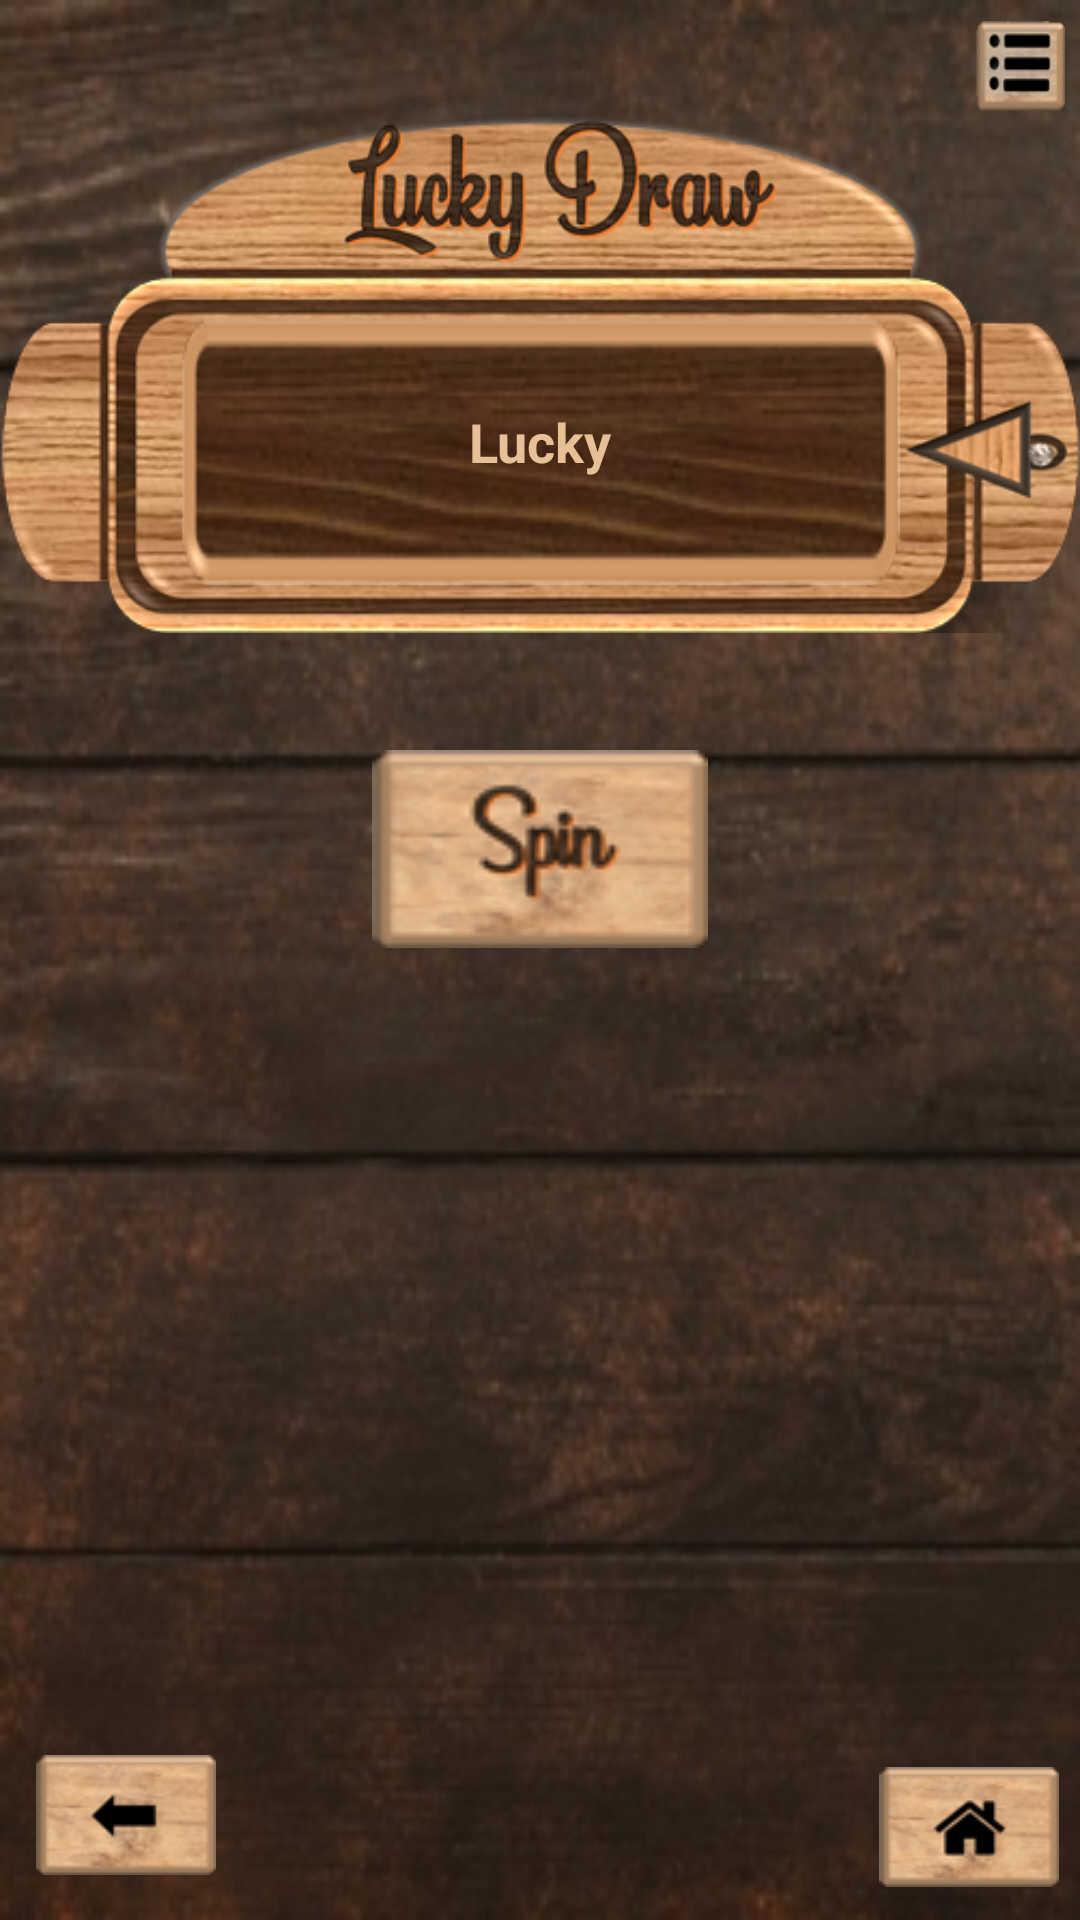

Icons on this 1080x1920 Android screen, each with the point to tap as point (x, y):
back arrow: point (126, 1815)
